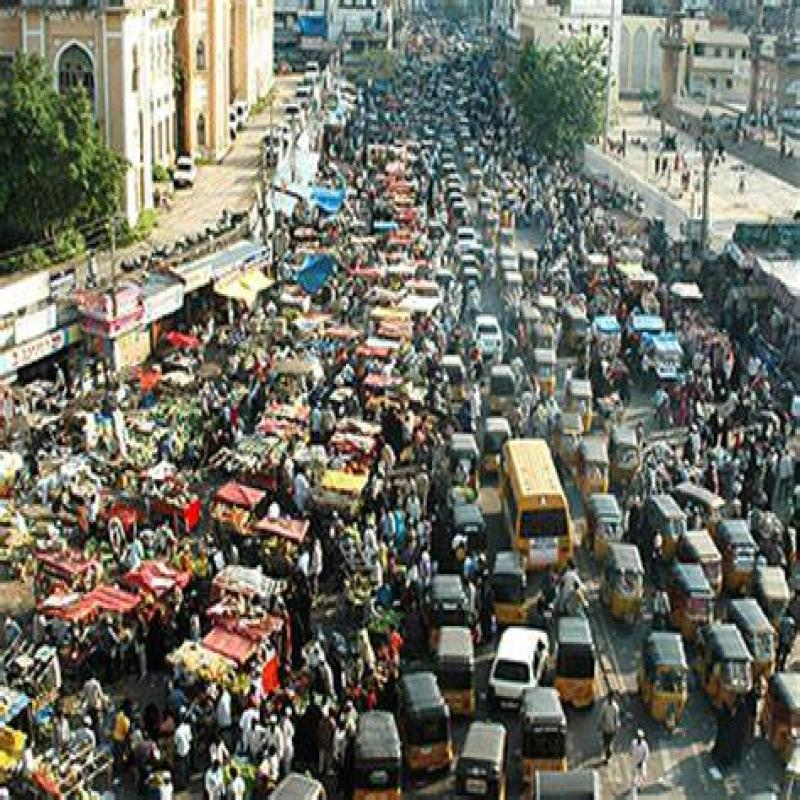car: (482, 610, 553, 714)
